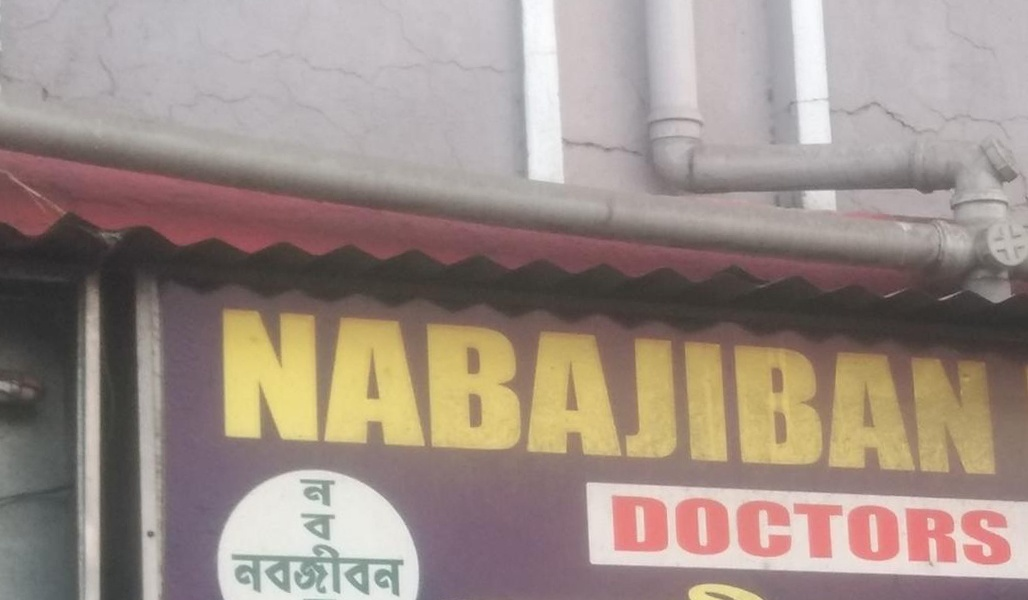text: (225, 306, 240, 478), (241, 306, 256, 478), (257, 306, 272, 478), (273, 306, 288, 478), (289, 306, 304, 478), (305, 306, 320, 478), (321, 306, 336, 478), (337, 306, 352, 478), (353, 306, 368, 478), (369, 306, 384, 478), (385, 306, 400, 478), (401, 306, 416, 478), (417, 306, 432, 478), (433, 306, 448, 478), (449, 306, 464, 478), (465, 306, 480, 478), (481, 306, 496, 478), (497, 306, 512, 478), (513, 306, 528, 478), (529, 306, 544, 478), (545, 306, 560, 478), (561, 306, 576, 478), (577, 306, 592, 478), (593, 306, 608, 478), (609, 306, 624, 478), (625, 306, 640, 478), (641, 306, 656, 478), (657, 306, 672, 478), (673, 306, 688, 478), (689, 306, 704, 478), (705, 306, 720, 478), (721, 306, 736, 478), (737, 306, 752, 478), (753, 306, 768, 478), (769, 306, 784, 478), (785, 306, 800, 478), (801, 306, 816, 478), (817, 306, 832, 478), (833, 306, 848, 478), (849, 306, 864, 478), (865, 306, 880, 478), (881, 306, 896, 478), (897, 306, 912, 478), (913, 306, 928, 478), (929, 306, 944, 478), (945, 306, 960, 478), (961, 306, 976, 478), (977, 306, 992, 478), (993, 306, 1001, 478), (625, 495, 640, 568), (641, 495, 656, 568), (657, 495, 672, 568), (673, 495, 688, 568), (689, 495, 704, 568), (705, 495, 720, 568), (721, 495, 736, 568), (737, 495, 752, 568), (753, 495, 768, 568), (769, 495, 784, 568), (785, 495, 800, 568), (801, 495, 816, 568), (817, 495, 832, 568), (833, 495, 848, 568), (849, 495, 864, 568), (865, 495, 880, 568), (881, 495, 896, 568), (897, 495, 912, 568), (913, 495, 928, 568), (929, 495, 944, 568), (945, 495, 960, 568), (961, 495, 976, 568), (977, 495, 992, 568), (993, 495, 1008, 568), (305, 478, 320, 543), (321, 478, 336, 543), (241, 538, 256, 598), (257, 538, 272, 598), (273, 538, 288, 598), (289, 538, 304, 598), (305, 538, 320, 598), (321, 538, 336, 598), (337, 538, 352, 598), (353, 538, 368, 598), (369, 538, 384, 598), (385, 538, 400, 598), (219, 306, 224, 478), (613, 495, 624, 568), (296, 478, 304, 543), (232, 538, 240, 598), (401, 538, 409, 598), (1009, 495, 1015, 568), (337, 478, 341, 543)
